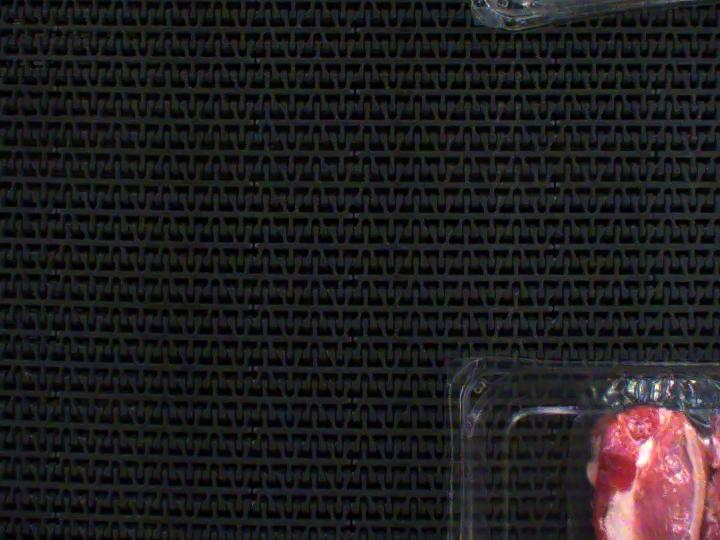unsealed: (553, 378, 720, 504)
